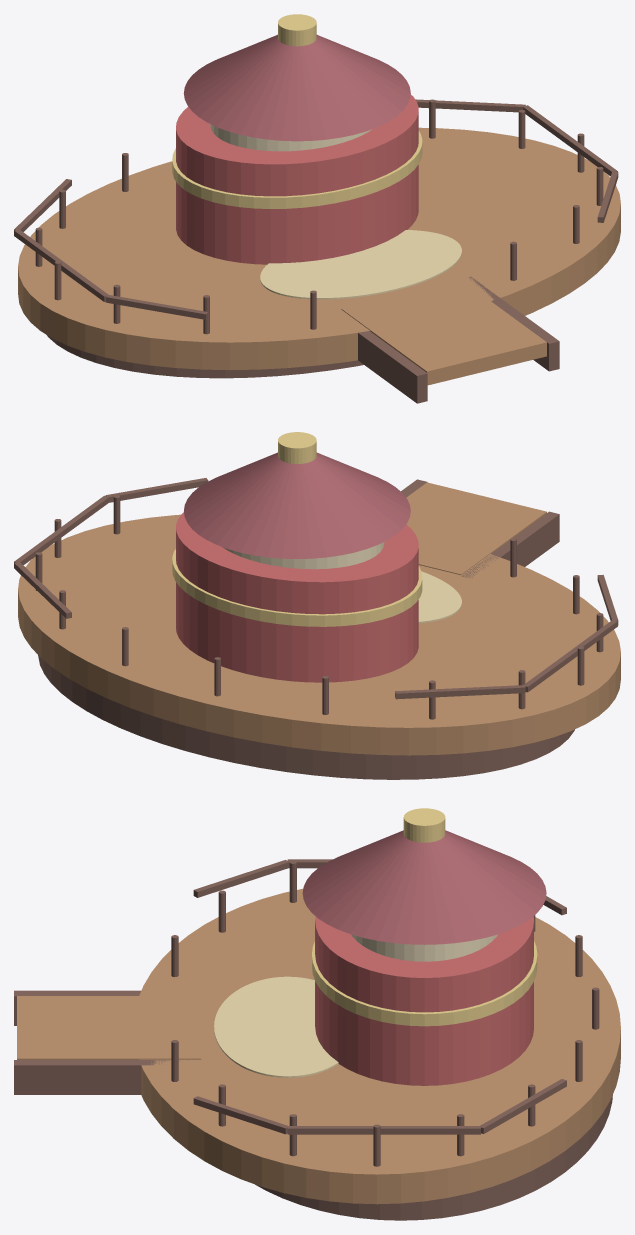
Rendered from baratie-encounter-deck.glb.
The picture shows the model from 3 angles, top to bottom: view 1: azimuth 30°, elevation 25°; view 2: azimuth 150°, elevation 25°; view 3: azimuth 270°, elevation 25°; orthographic projection. The views are drawn at different scales.
Visible parts, largest first — view 1: main_deck, restaurant_body, restaurant_roof, approach_dock, encounter_inlay, restaurant_band, dock_fender_-1, lower_hull, upper_gallery, dock_fender_1, roof_crown, rail_beam_03 (+4 smaller); view 2: main_deck, restaurant_body, restaurant_roof, lower_hull, approach_dock, restaurant_band, dock_fender_-1, encounter_inlay, upper_gallery, rail_beam_04, roof_crown, rail_beam_03 (+3 smaller); view 3: main_deck, restaurant_body, restaurant_roof, approach_dock, encounter_inlay, lower_hull, dock_fender_1, restaurant_band, upper_gallery, rail_beam_03, roof_crown, rail_beam_05 (+3 smaller).
Part boxes in pixels (bbox=[...]): main_deck: bbox=[18, 127, 620, 370]; restaurant_body: bbox=[176, 94, 418, 264]; restaurant_roof: bbox=[183, 34, 410, 141]; approach_dock: bbox=[341, 279, 546, 385]; encounter_inlay: bbox=[260, 230, 461, 299]; restaurant_band: bbox=[172, 131, 422, 208]; dock_fender_-1: bbox=[358, 331, 427, 403]; lower_hull: bbox=[47, 335, 363, 378]; upper_gallery: bbox=[210, 124, 371, 151]; dock_fender_1: bbox=[468, 276, 559, 371]; roof_crown: bbox=[278, 14, 316, 46]; rail_beam_03: bbox=[523, 105, 617, 176]; main_deck: bbox=[18, 514, 620, 755]; restaurant_body: bbox=[176, 512, 418, 682]; restaurant_roof: bbox=[184, 452, 410, 558]; lower_hull: bbox=[38, 655, 574, 779]; approach_dock: bbox=[406, 482, 546, 574]; restaurant_band: bbox=[172, 549, 422, 626]; dock_fender_-1: bbox=[461, 511, 559, 577]; encounter_inlay: bbox=[418, 571, 461, 623]; upper_gallery: bbox=[222, 542, 384, 569]; rail_beam_04: bbox=[395, 685, 525, 699]; roof_crown: bbox=[278, 432, 316, 463]; rail_beam_03: bbox=[14, 495, 108, 565]; main_deck: bbox=[139, 888, 620, 1204]; restaurant_body: bbox=[315, 916, 533, 1085]; restaurant_roof: bbox=[302, 830, 546, 944]; approach_dock: bbox=[17, 996, 201, 1059]; encounter_inlay: bbox=[214, 976, 338, 1077]; lower_hull: bbox=[255, 1095, 612, 1220]; dock_fender_1: bbox=[14, 1060, 180, 1094]; restaurant_band: bbox=[312, 941, 537, 1026]; upper_gallery: bbox=[351, 934, 497, 961]; rail_beam_03: bbox=[287, 1126, 480, 1134]; roof_crown: bbox=[403, 808, 445, 842]; rail_beam_05: bbox=[479, 1079, 566, 1133].
Bounding box in the file's own units: 23.29 × 10.08 × 20.4.
